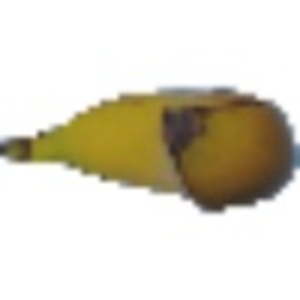banana: (4, 76, 293, 214)
